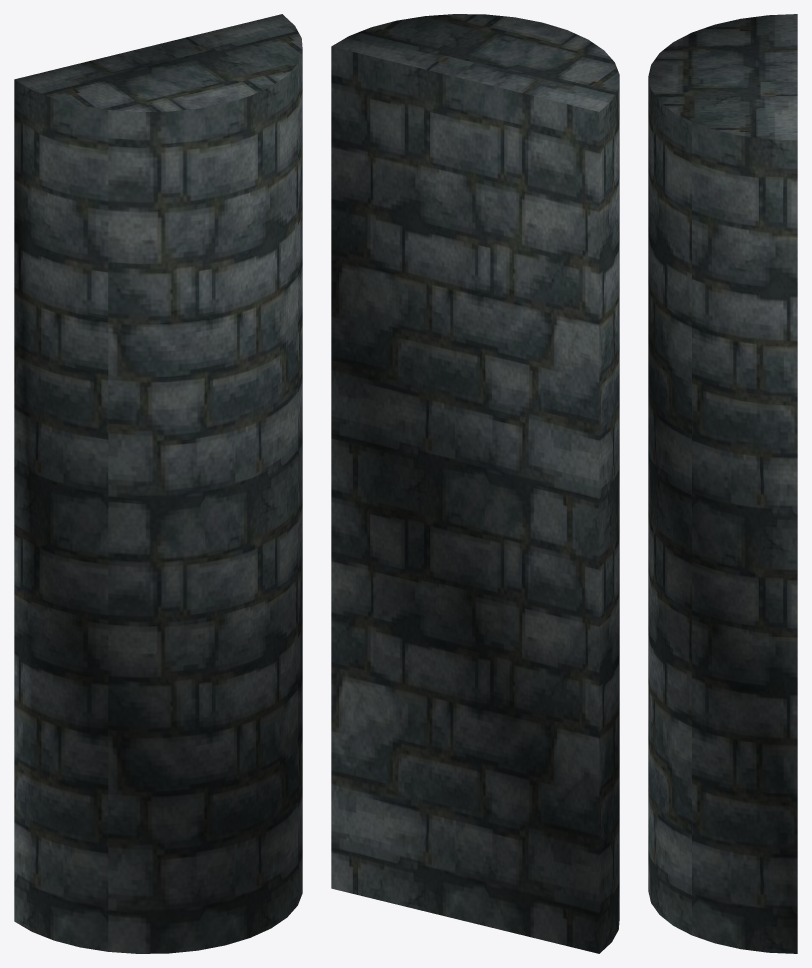
File: dark stone pillar curved.glb
The picture shows the model from 3 angles, left to right: view 1: azimuth 30°, elevation 25°; view 2: azimuth 150°, elevation 25°; view 3: azimuth 270°, elevation 25°; orthographic projection. The views are drawn at different scales.
Parts seen in each view (by area): view 1: Half Cylinder; view 2: Half Cylinder; view 3: Half Cylinder.
Boxes of the visible parts, box(x1,y1,x2,y2) form: Half Cylinder: box(14, 14, 302, 953); Half Cylinder: box(331, 14, 619, 953); Half Cylinder: box(648, 14, 797, 953).
Bounding box in the file's own units: 0.9144 × 2.74 × 0.4572.
Materials: 1 (1 with a texture image).
